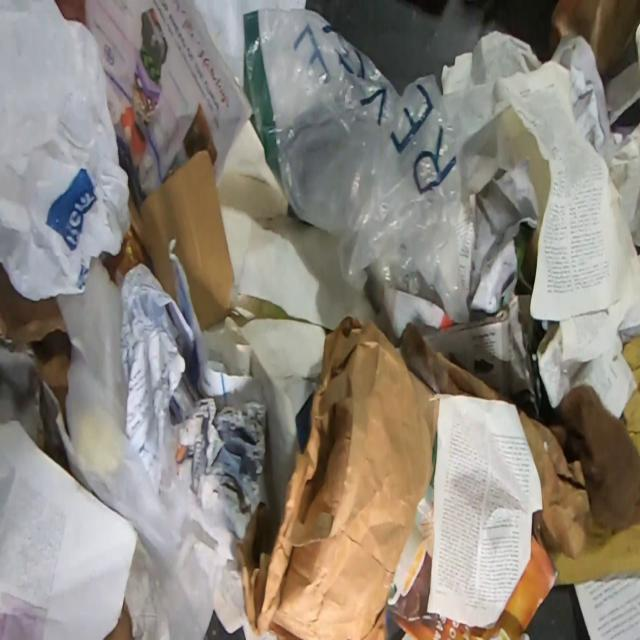cardboard: (236, 314, 514, 640), (519, 384, 639, 559), (140, 147, 236, 330), (0, 261, 71, 427), (548, 521, 640, 587), (622, 336, 640, 458)
soft_plastic: (240, 0, 469, 326), (53, 258, 190, 568), (0, 0, 132, 302)
